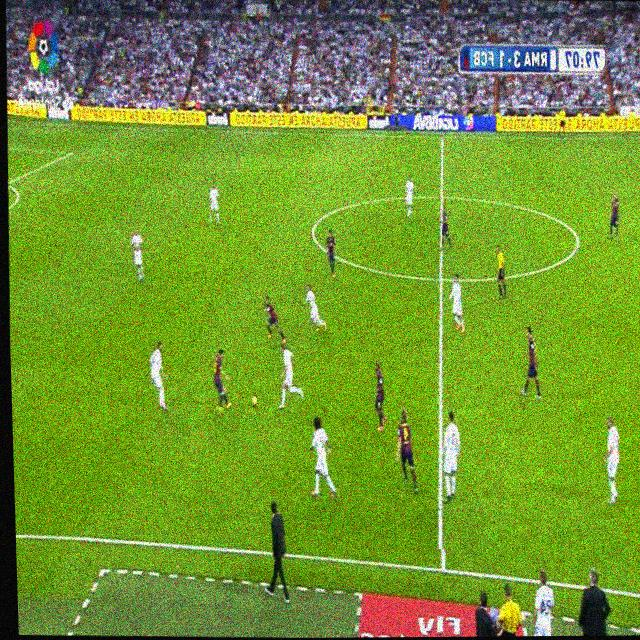halfcircle_bottom: (434, 267, 446, 289)
halfcircle_top: (437, 186, 446, 205)
midline_bottom_intersection: (432, 549, 447, 577)
midline_top_intersection: (438, 130, 445, 143)
top_arc_area_intersection: (8, 174, 11, 189)
